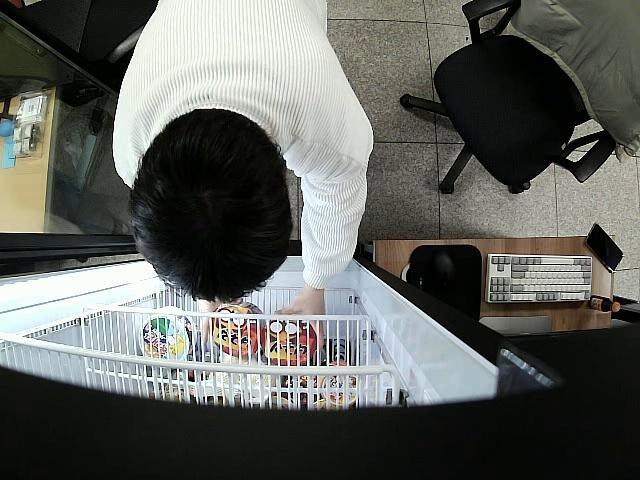05_nuguri_L: (213, 298, 264, 358), (262, 314, 318, 364)
